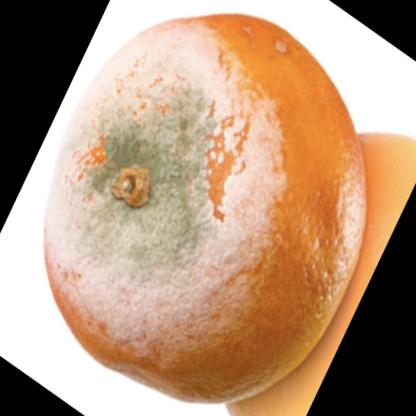fresh: (45, 16, 366, 403)
